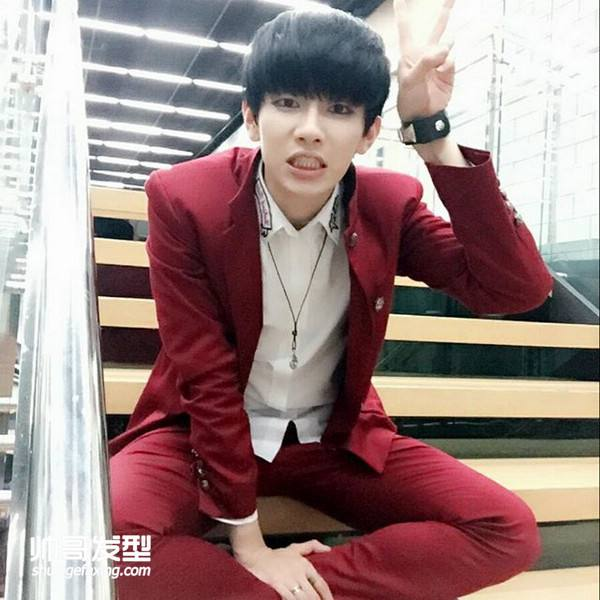person: (150, 23, 477, 575)
